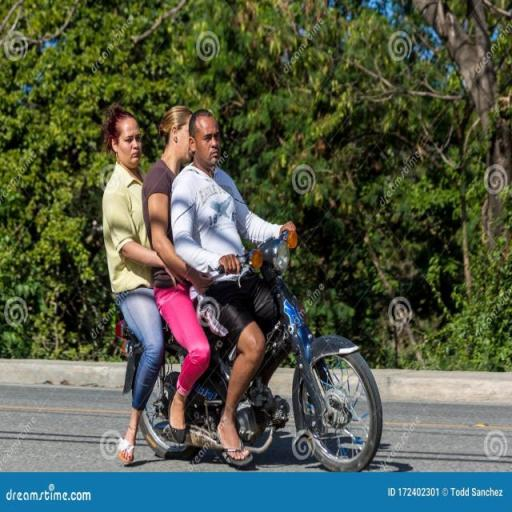tripple riding: (96, 90, 294, 474)
